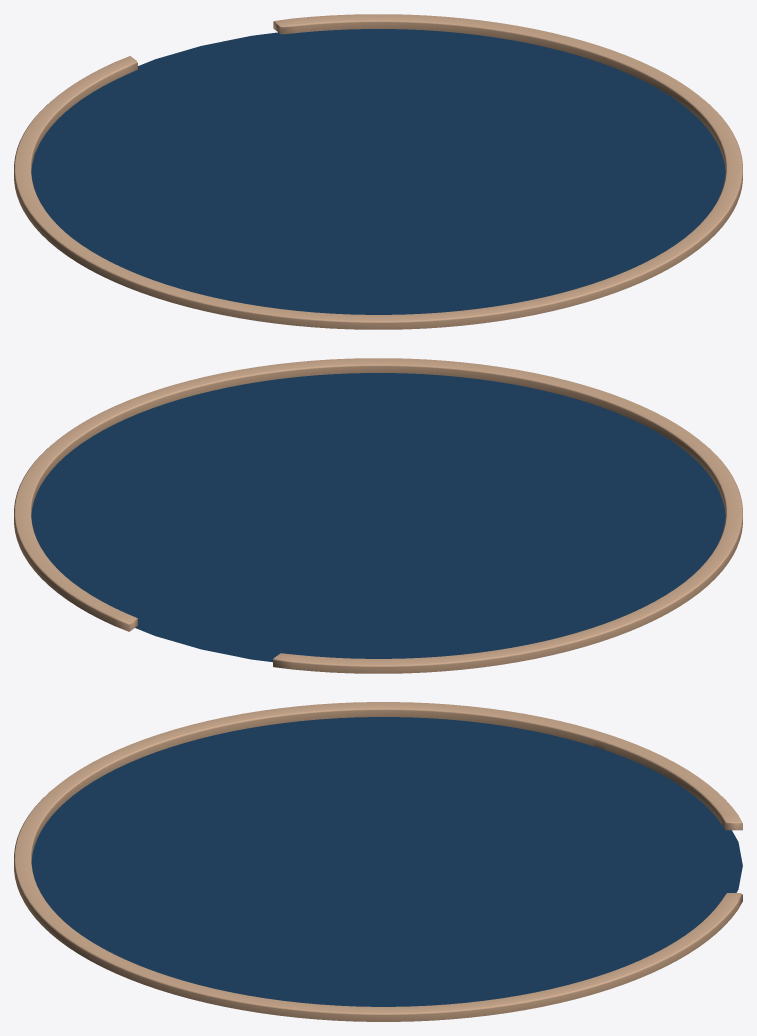
The model's file is PokemonMonster_Landing_RoadStageTron.fbx.
The picture shows the model from 3 angles, top to bottom: view 1: azimuth 30°, elevation 25°; view 2: azimuth 150°, elevation 25°; view 3: azimuth 270°, elevation 25°; orthographic projection.
Visible parts, largest first — view 1: Road_stage_tron; view 2: Road_stage_tron; view 3: Road_stage_tron.
Boxes of the visible parts, x1,y1,x2,y2 form: Road_stage_tron: [14, 14, 742, 329]; Road_stage_tron: [14, 358, 742, 673]; Road_stage_tron: [14, 702, 742, 1021].
Bounding box in the file's own units: 2199 × 27.5 × 2169.
1 material, 1 textured.
